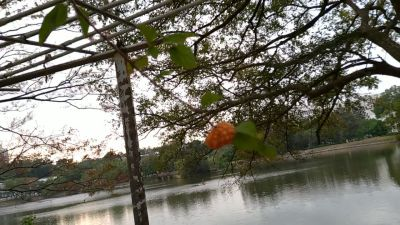eggs: (204, 121, 237, 149)
